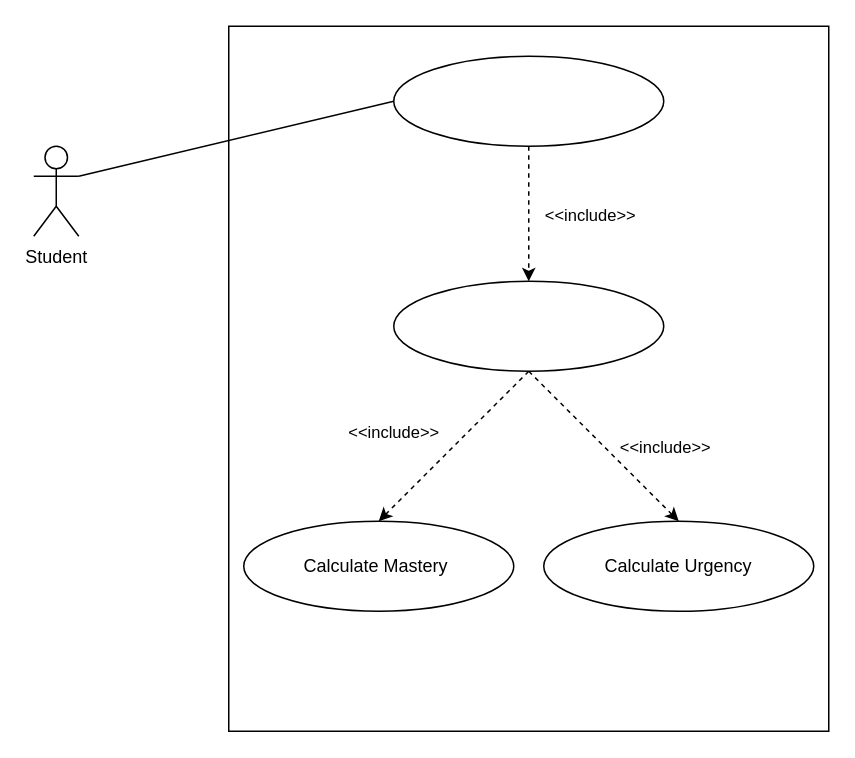
Some shapes in this 855 by 758 pixel diagram are drawn without their labels. The shapes that lost their labels are listed below. From the top down, each one's box as (x1, y1, x2, y2) in pixels, then its label:
(392, 55, 664, 146): View Priority Scores
(392, 280, 664, 371): Calculate Priority Score
